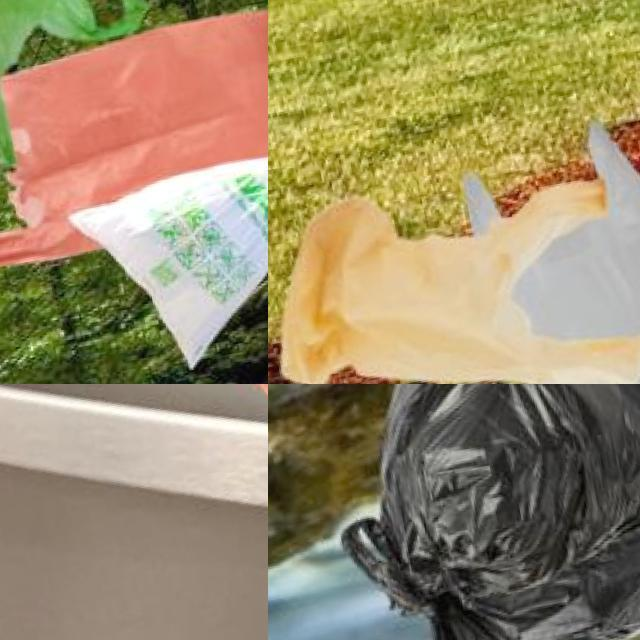waste: (325, 384, 640, 640), (448, 113, 640, 384), (64, 147, 268, 384), (0, 0, 164, 173)
